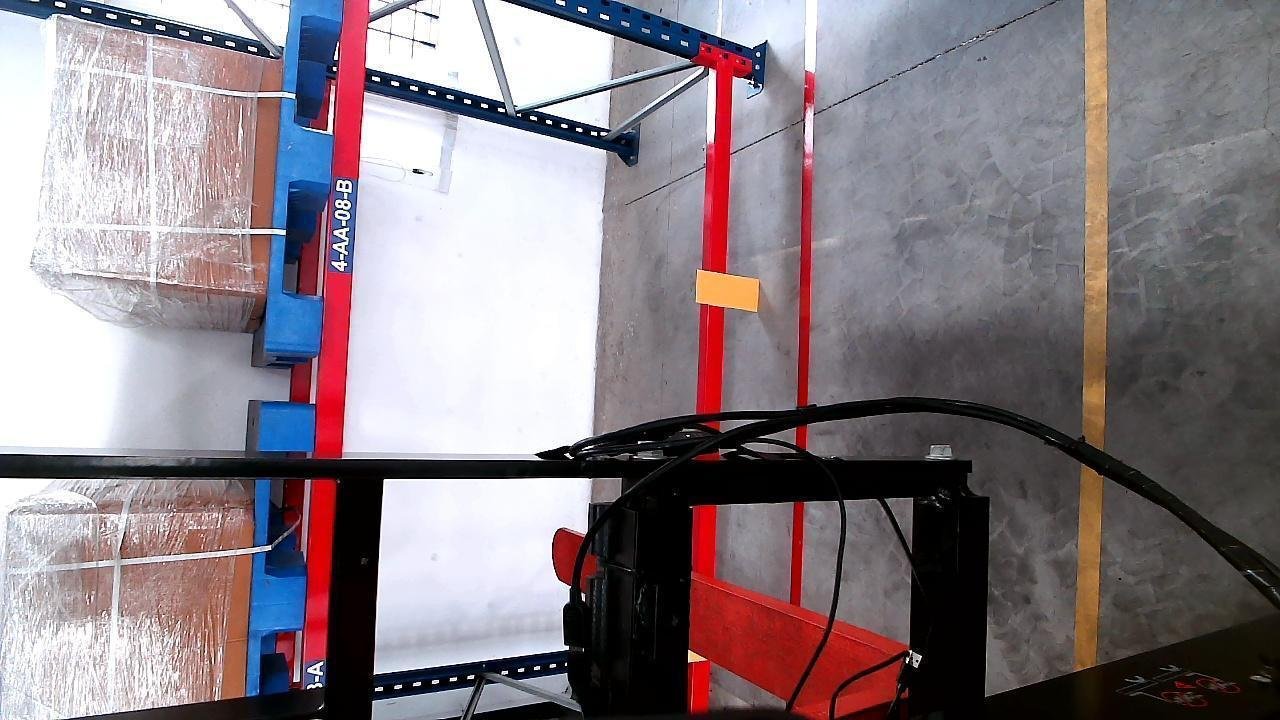red_line: (791, 1, 821, 614)
yellow_line: (1077, 0, 1115, 667)
